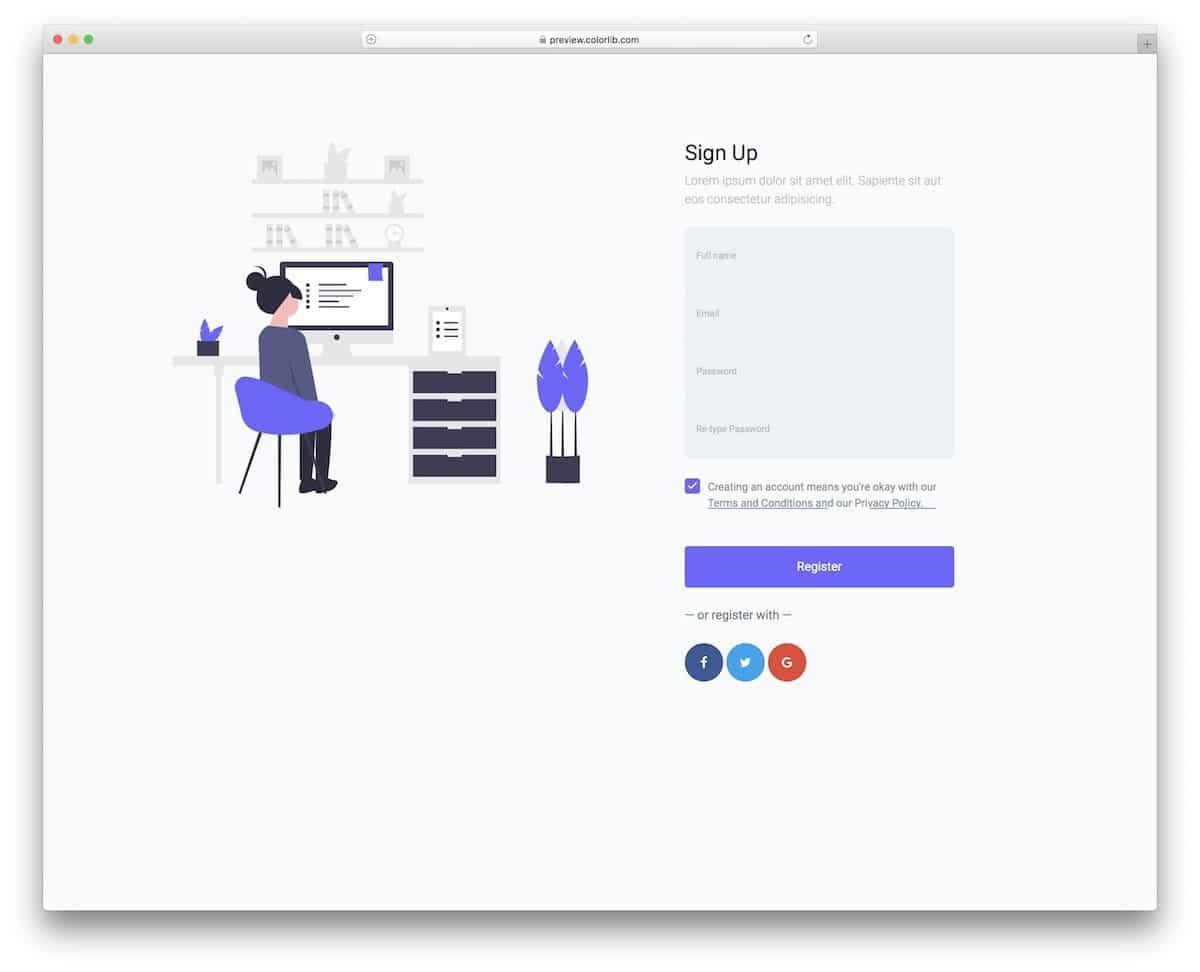button: (685, 547, 956, 589)
checkbox: (686, 480, 701, 495)
label: (692, 420, 774, 439), (694, 247, 743, 266), (692, 365, 745, 378), (692, 303, 724, 324)
